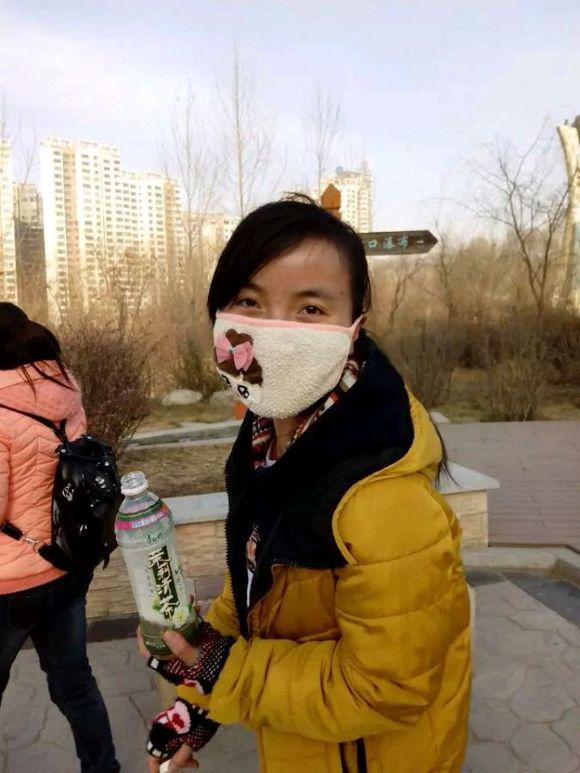OK: (213, 272, 349, 421)
